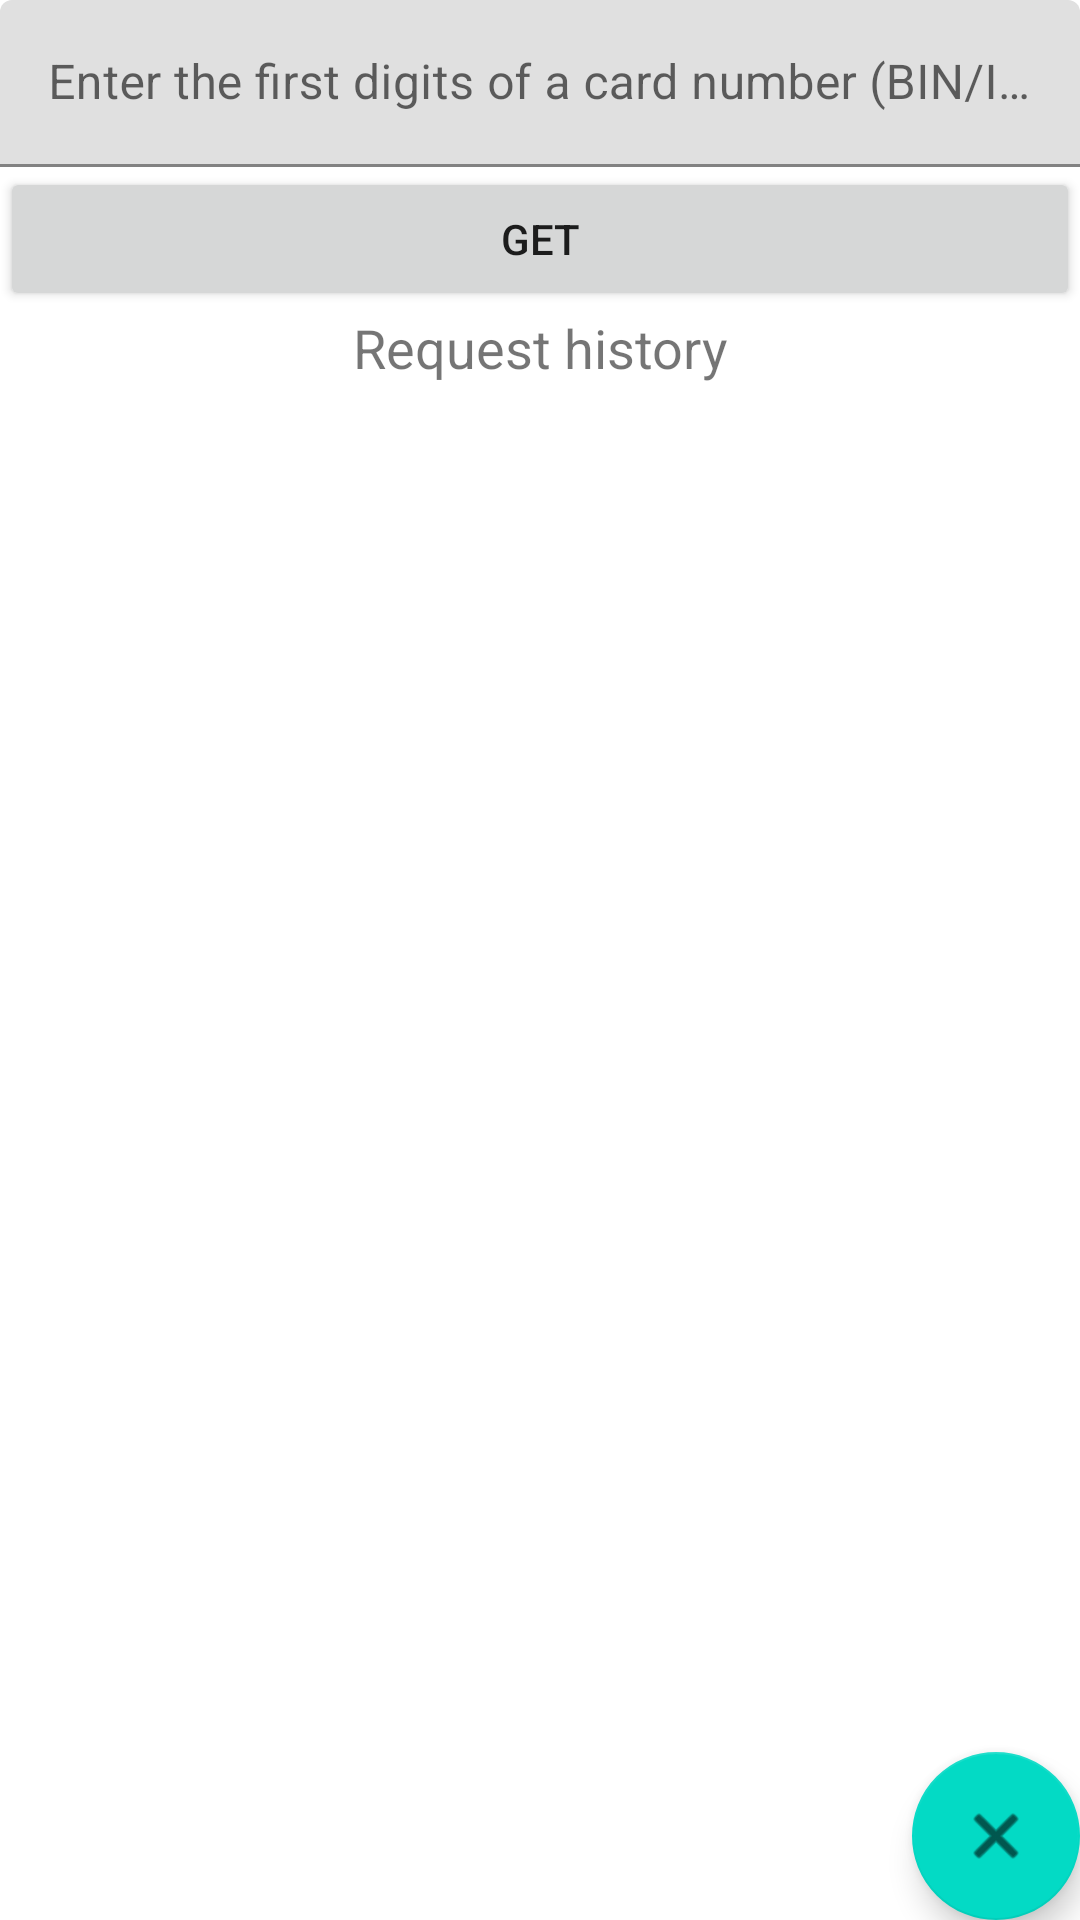

Where to tap for icons on this 1080w x 1920h app screen, as point (x, y):
Clear request history: point (996, 1836)
